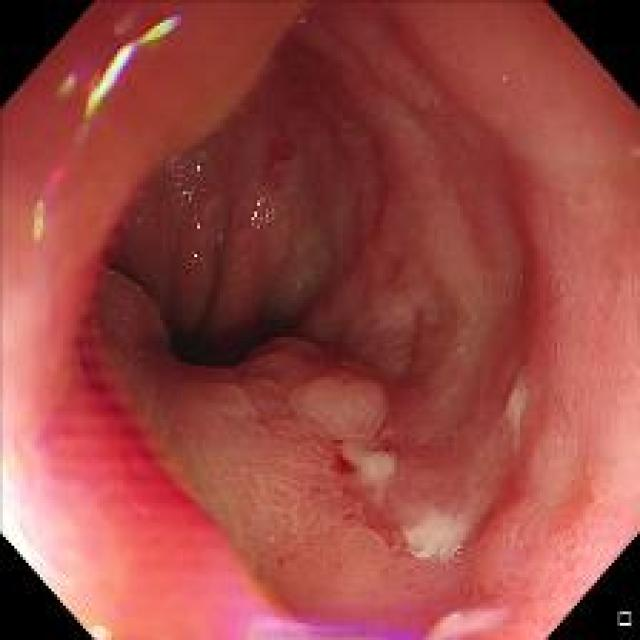blur: (62, 189, 202, 564)
color misalignment: (88, 14, 179, 119), (222, 595, 426, 636), (165, 149, 196, 255), (35, 162, 59, 238), (190, 149, 204, 254), (248, 188, 278, 228), (59, 65, 81, 101), (52, 150, 70, 179)
contrast: (158, 294, 306, 380)
saturation: (6, 450, 85, 599)
